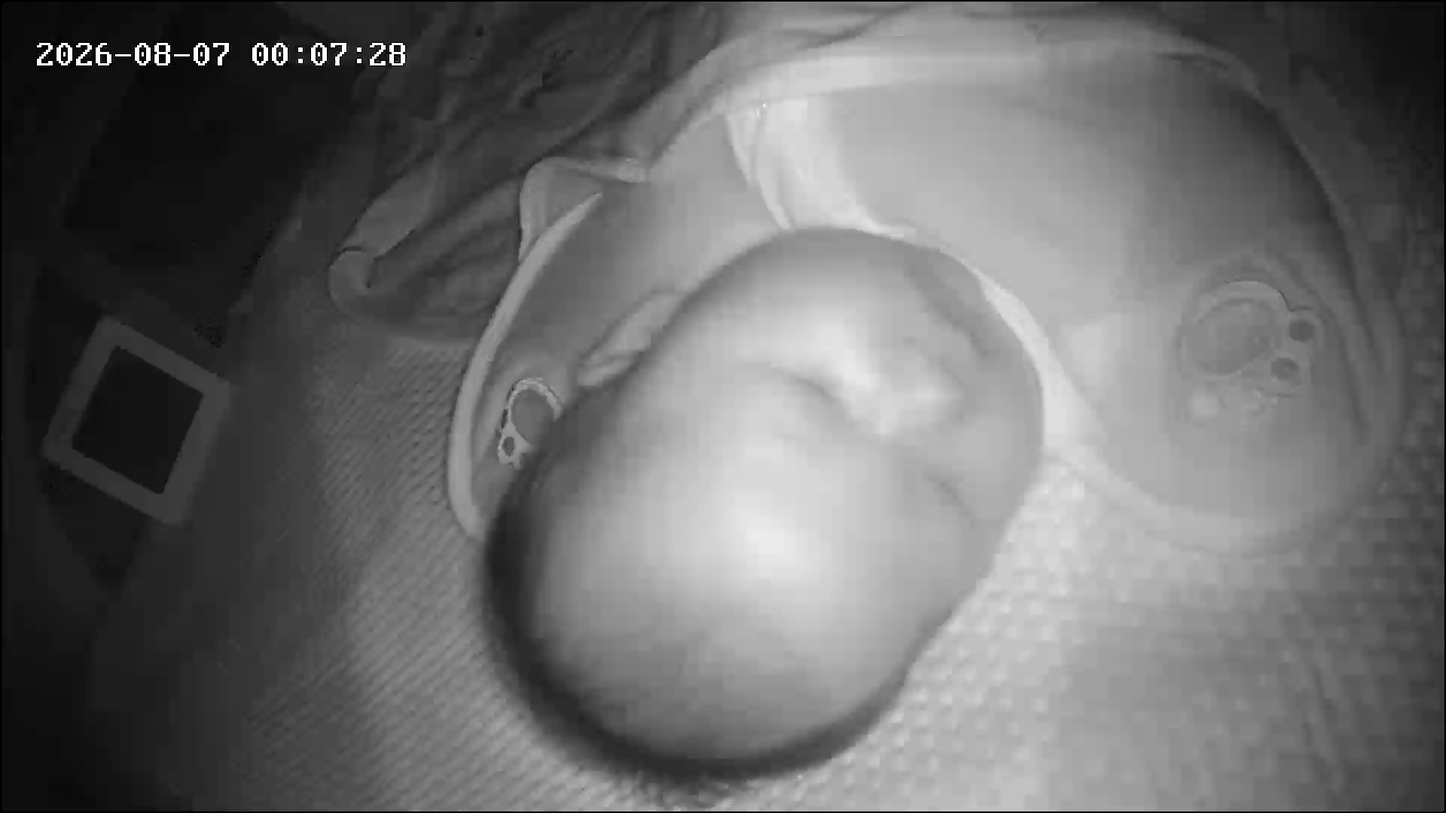baby: (2, 0, 1114, 802), (465, 3, 1416, 803)
baby_face: (506, 218, 1055, 787)
